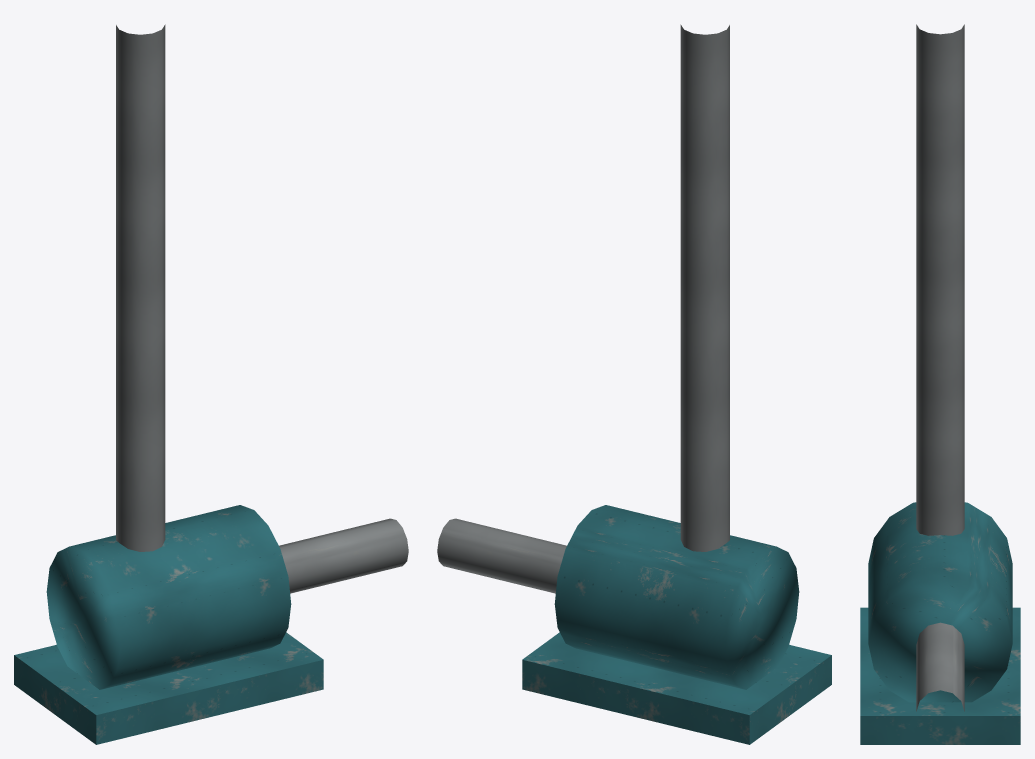
File: pump.glb
3 views of the same model, side by side, from view 1: azimuth 30°, elevation 25°; view 2: azimuth 150°, elevation 25°; view 3: azimuth 270°, elevation 25° (orthographic). The views are drawn at different scales.
Visible parts, largest first — view 1: pump; view 2: pump; view 3: pump.
Part boxes in pixels (x1,y1,x2,y2): pump: (14, 24, 408, 744); pump: (437, 24, 831, 744); pump: (860, 24, 1020, 744).
Bounding box in the file's own units: 2.4 × 4.5 × 1.
Materials: 2 (2 with a texture image).
